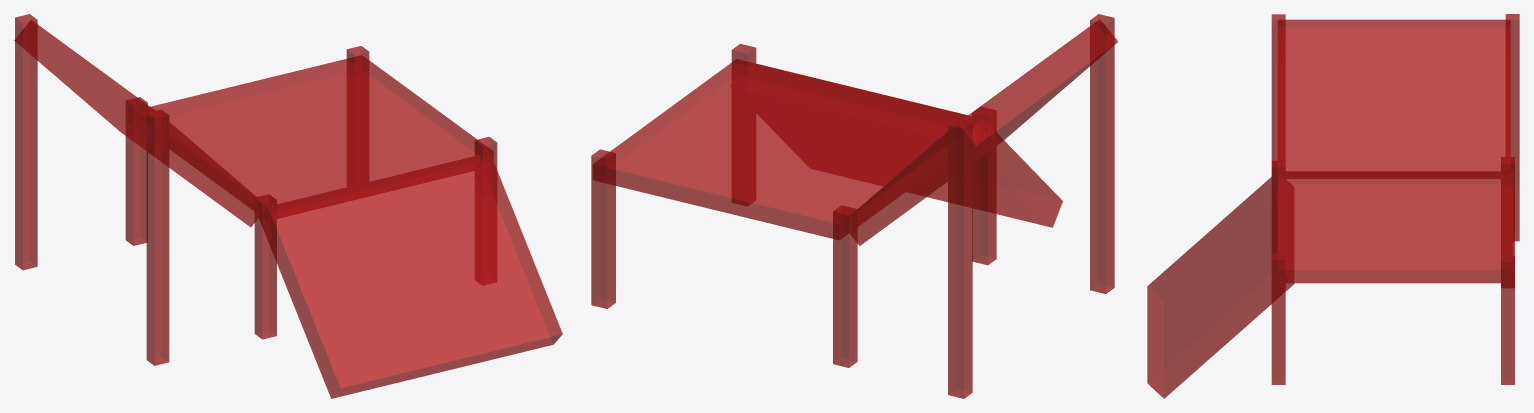
Rendered from SM_Bld_House_Stairs_02_Collision.fbx.
3 views of the same model, side by side, from view 1: azimuth 30°, elevation 25°; view 2: azimuth 150°, elevation 25°; view 3: azimuth 270°, elevation 25° (orthographic). The views are drawn at different scales.
Visible parts, largest first — view 1: SM_Bld_House_Stairs_02_Collision; view 2: SM_Bld_House_Stairs_02_Collision; view 3: SM_Bld_House_Stairs_02_Collision.
Boxes of the visible parts, <box> form: SM_Bld_House_Stairs_02_Collision: <box>14,14,562,398</box>; SM_Bld_House_Stairs_02_Collision: <box>591,14,1118,398</box>; SM_Bld_House_Stairs_02_Collision: <box>1147,14,1519,398</box>.
Size of the model in its own units: 386 by 279 by 398.
